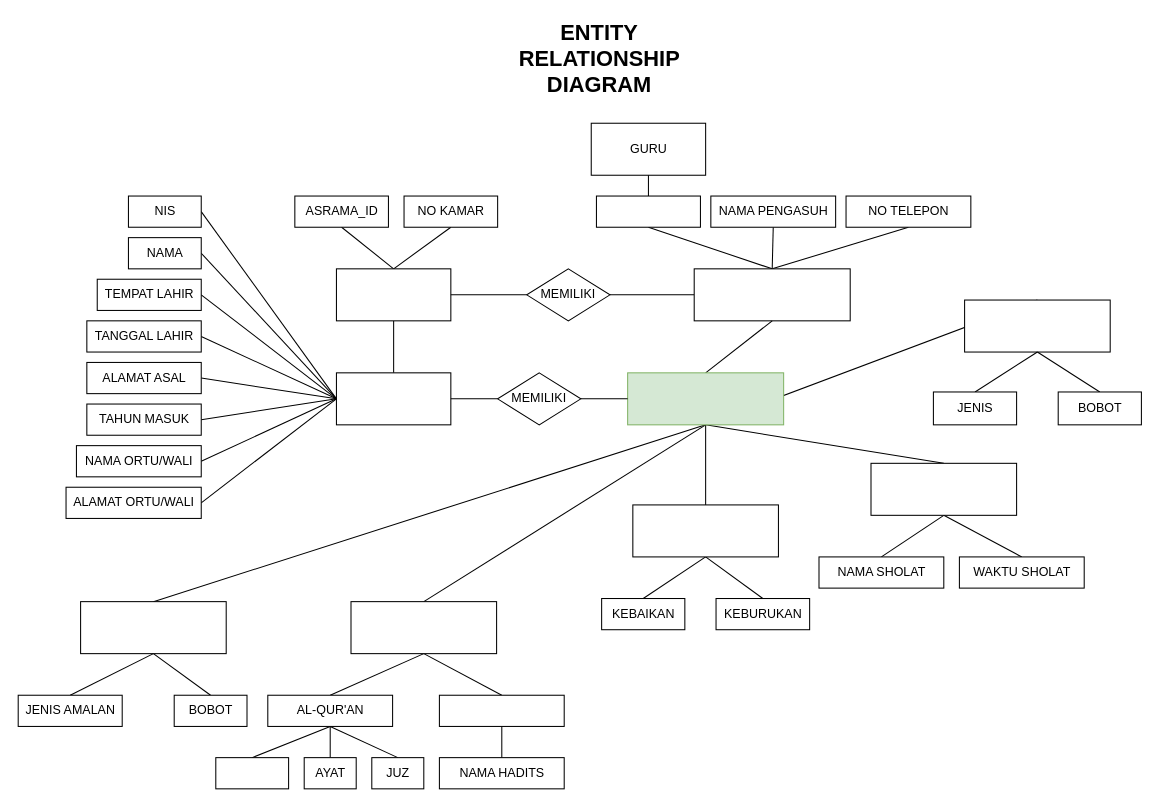
Some shapes in this 1160 by 807 pixel diagram are drawn without their labels. Here are the shapes that lost their labels. From the top down, the centre of each, then its label:
At (647,211): "PENGASUH_ID".
At (393,294): "ASRAMA".
At (771,294): "PEMBINA ASRAMA".
At (1037,325): "POIN PELANGGARAN".
At (393,398): "SISWA".
At (705,398): "SISTEM AKADEMIK ASRAMA".
At (943,488): "ABSENSI SHOLAT".
At (705,530): "CATATAN BAIK/BURUK".
At (153,627): "AMALAN YAUMIYAH".
At (423,627): "HAFALAN".
At (501,710): "HADITS".
At (252,773): "SURAH".
